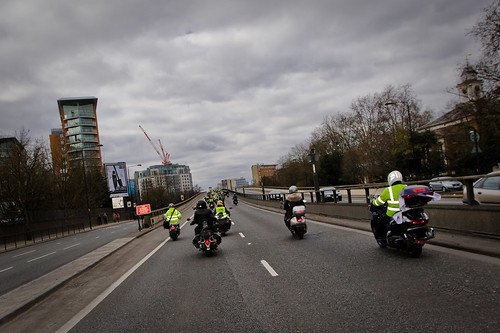building: (421, 70, 492, 171), (48, 93, 106, 179), (136, 154, 194, 202), (251, 162, 279, 184)
crane: (136, 123, 171, 164)
motorcycle: (357, 202, 430, 259), (189, 222, 225, 253), (283, 210, 310, 241), (163, 222, 182, 243)
sky: (1, 1, 464, 98), (110, 92, 316, 165)
street: (1, 207, 494, 333)
vegetation: (281, 89, 425, 186)
